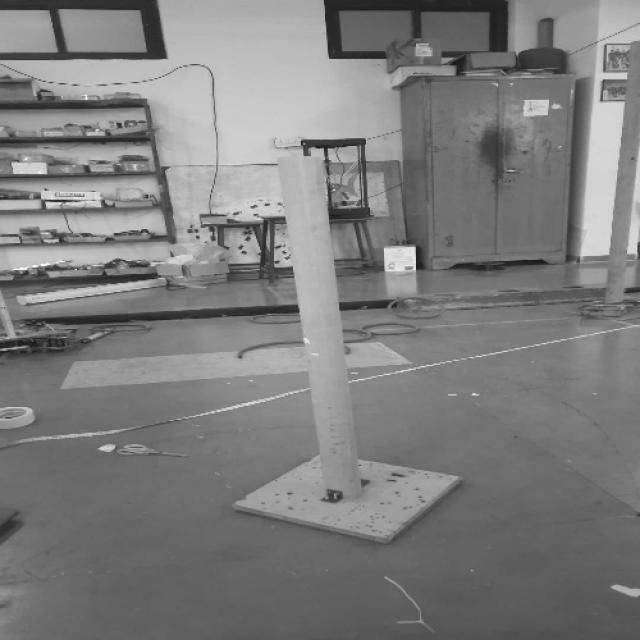poles: (227, 132, 465, 545)
